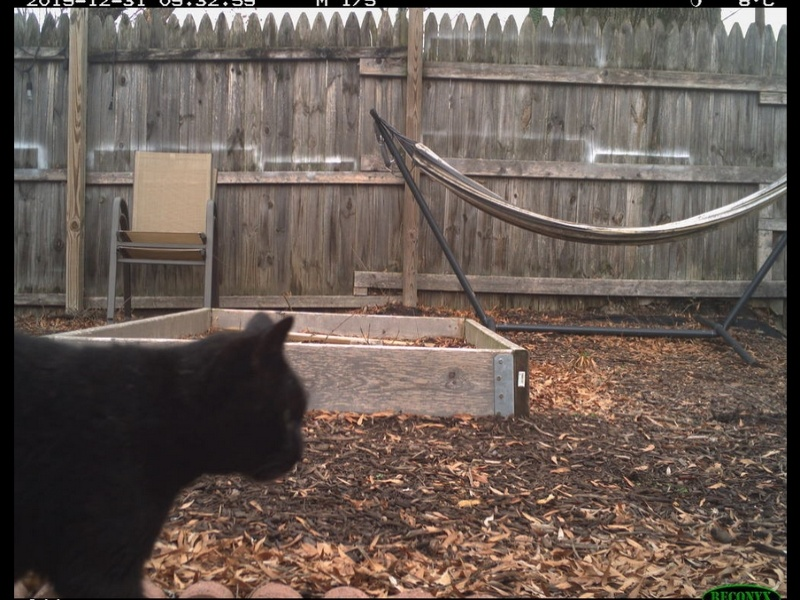cat: (17, 308, 307, 598)
